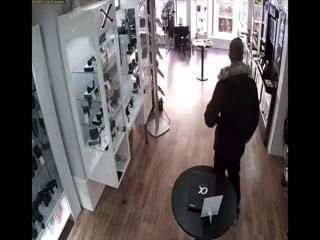Normal: (56, 0, 142, 203), (203, 36, 260, 214), (171, 165, 238, 240)
